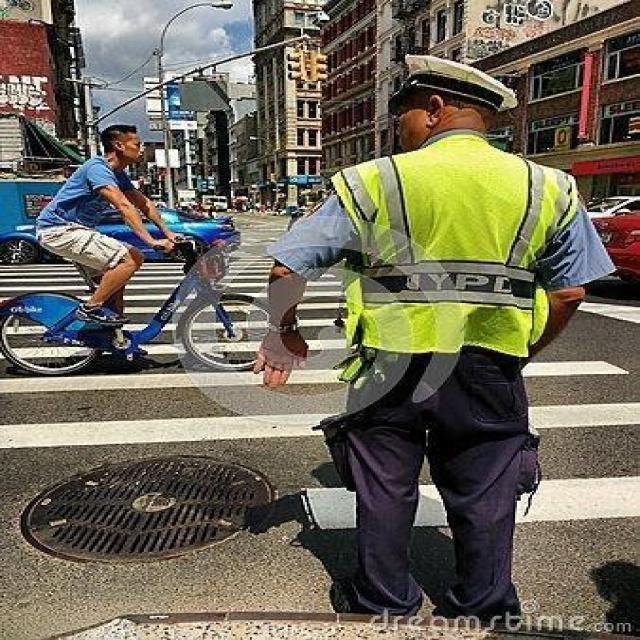no-helmet: (393, 47, 523, 127), (97, 119, 147, 152)
no-vest: (46, 149, 134, 239)
vest: (328, 130, 582, 363)
